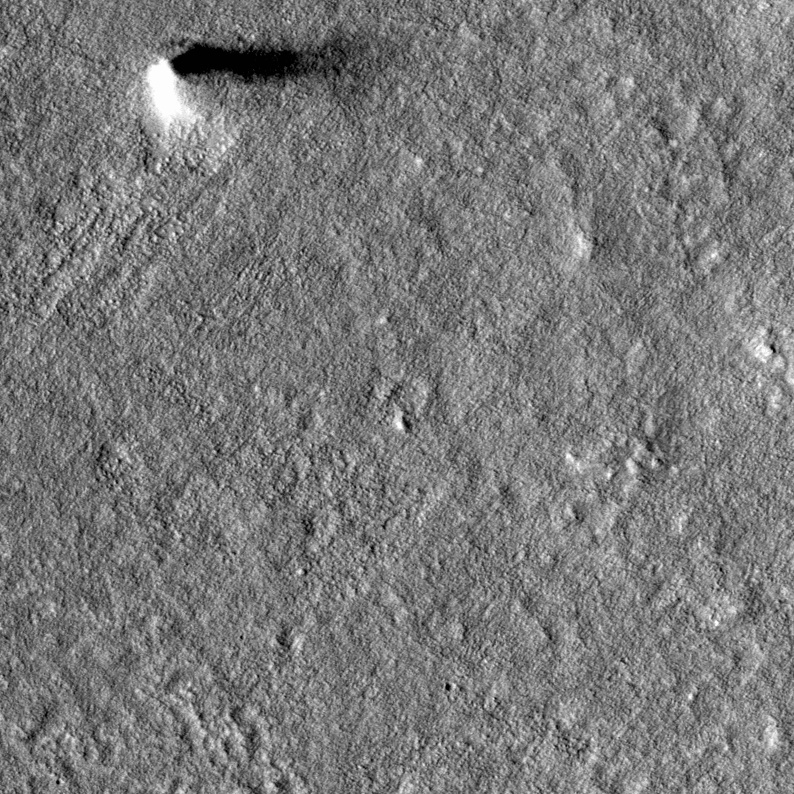dust_devil: (144, 36, 358, 140)
